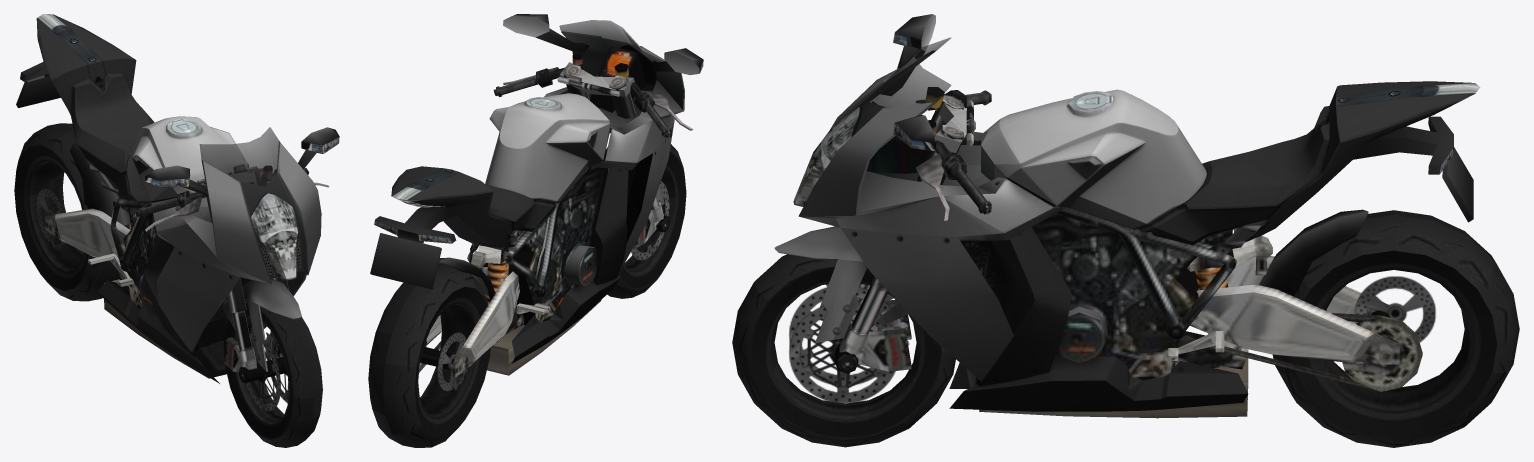
File: ktm-rc8.glb
The picture shows the model from 3 angles, left to right: view 1: azimuth 30°, elevation 25°; view 2: azimuth 150°, elevation 25°; view 3: azimuth 270°, elevation 25°; orthographic projection. The views are drawn at different scales.
Visible parts, largest first — view 1: mesh_40_50.nr, mesh_39_49.nr, mesh_39_48.nr, mesh_39_47.nr, mesh_42_54.nr, mesh_40_52.nr, mesh_40_51.nr; view 2: mesh_40_50.nr, mesh_39_49.nr, mesh_39_48.nr, mesh_39_47.nr, mesh_42_54.nr, mesh_40_51.nr, mesh_40_52.nr; view 3: mesh_40_50.nr, mesh_39_49.nr, mesh_39_48.nr, mesh_39_47.nr, mesh_40_52.nr, mesh_42_54.nr, mesh_40_51.nr.
Boxes of the visible parts, left/top/right/bottom form: mesh_40_50.nr: left=16, top=14, right=339, bottom=383; mesh_39_49.nr: left=57, top=31, right=309, bottom=378; mesh_39_48.nr: left=14, top=123, right=129, bottom=301; mesh_39_47.nr: left=223, top=299, right=322, bottom=447; mesh_42_54.nr: left=199, top=127, right=279, bottom=187; mesh_40_52.nr: left=245, top=332, right=288, bottom=411; mesh_40_51.nr: left=36, top=188, right=65, bottom=250; mesh_40_50.nr: left=370, top=14, right=703, bottom=377; mesh_39_49.nr: left=413, top=45, right=672, bottom=375; mesh_39_48.nr: left=368, top=264, right=490, bottom=447; mesh_39_47.nr: left=607, top=144, right=686, bottom=298; mesh_42_54.nr: left=559, top=20, right=641, bottom=51; mesh_40_51.nr: left=437, top=332, right=467, bottom=391; mesh_40_52.nr: left=631, top=163, right=669, bottom=260; mesh_40_50.nr: left=774, top=14, right=1480, bottom=411; mesh_39_49.nr: left=851, top=86, right=1422, bottom=418; mesh_39_48.nr: left=1272, top=210, right=1519, bottom=447; mesh_39_47.nr: left=732, top=254, right=955, bottom=447; mesh_40_52.nr: left=787, top=286, right=909, bottom=403; mesh_42_54.nr: left=866, top=37, right=951, bottom=106; mesh_40_51.nr: left=1354, top=276, right=1435, bottom=342.
Bounding box in the file's own units: 80.15 × 113 × 208.
2 materials, 2 textured.
